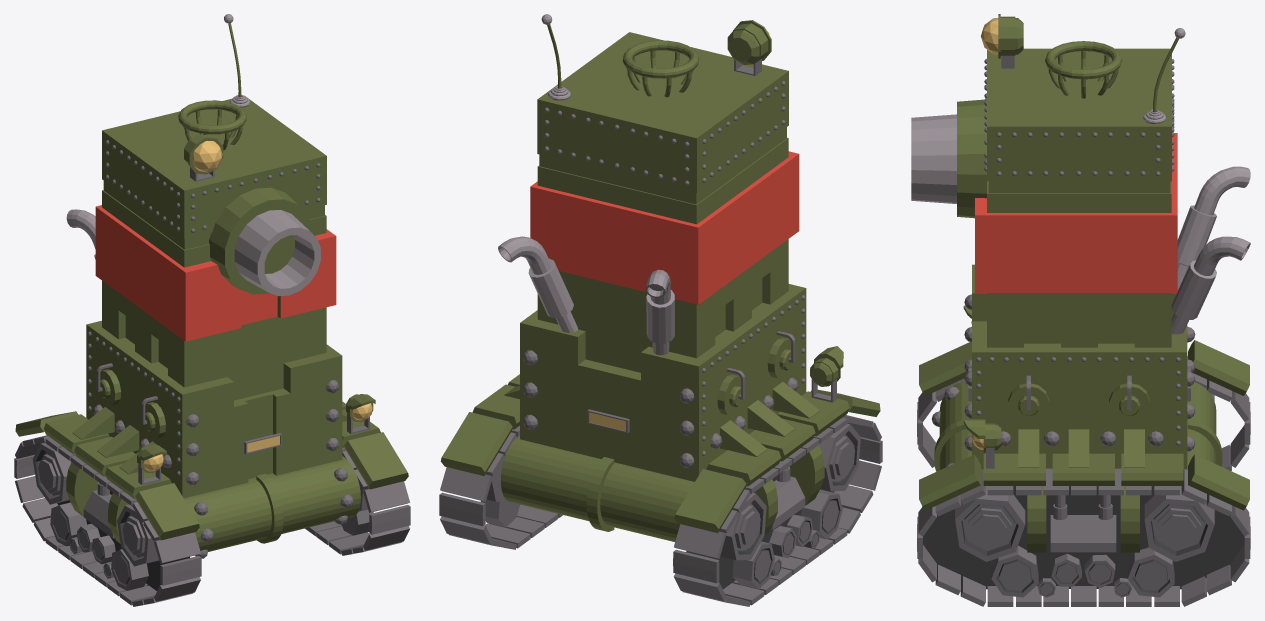
File: segmented_mesh_20260228_071116_mesh.glb
3 views of the same model, side by side, from view 1: azimuth 30°, elevation 25°; view 2: azimuth 150°, elevation 25°; view 3: azimuth 270°, elevation 25° (orthographic). The views are drawn at different scales.
Parts seen in each view (by area): view 1: world; view 2: world; view 3: world.
Part boxes in pixels (x1,y1,x2,y2): world: (14, 14, 410, 606); world: (439, 14, 882, 606); world: (911, 14, 1250, 606).
Size of the model in its own units: 0.538 by 1 by 0.5667.
1 material, 1 textured.
